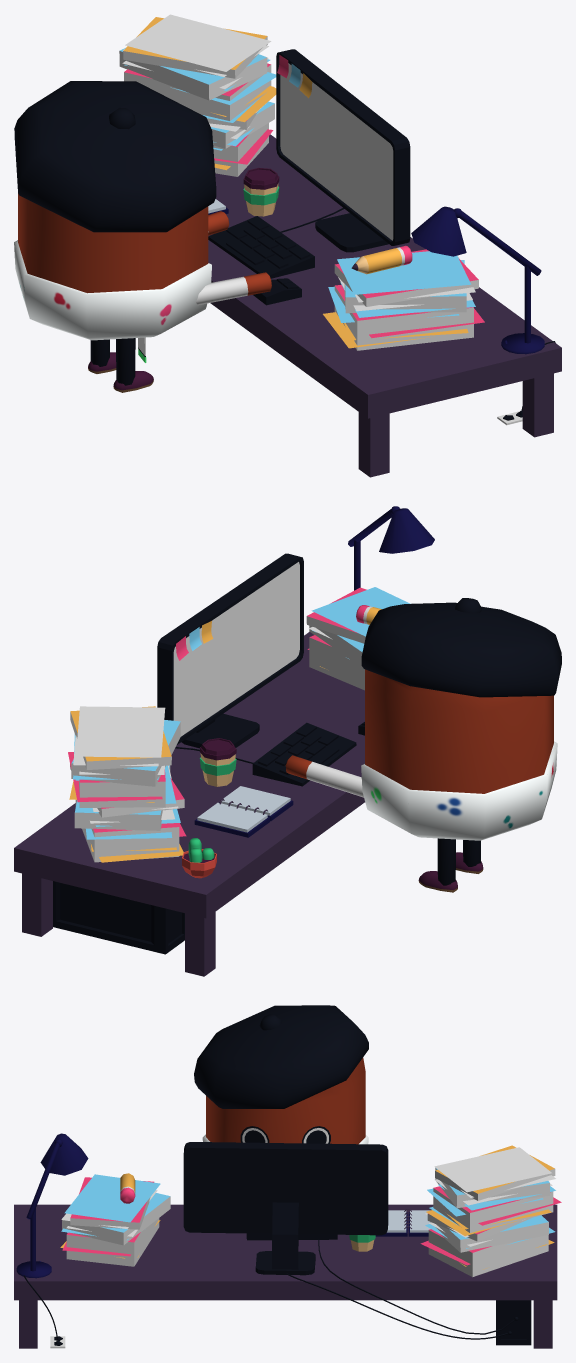
File: ArtistRecruiter.fbx
3 renders of one model, top to bottom at view 1: azimuth 30°, elevation 25°; view 2: azimuth 150°, elevation 25°; view 3: azimuth 270°, elevation 25°, orthographic. The views are drawn at different scales.
Visible parts, largest first — view 1: RightEye.001; view 2: RightEye.001; view 3: RightEye.001.
Boxes of the visible parts, box(x1,y1,x2,y2) form: RightEye.001: box(14, 14, 561, 477); RightEye.001: box(14, 506, 561, 976); RightEye.001: box(14, 1005, 561, 1348).
Size of the model in its own units: 402 by 272 by 605.
